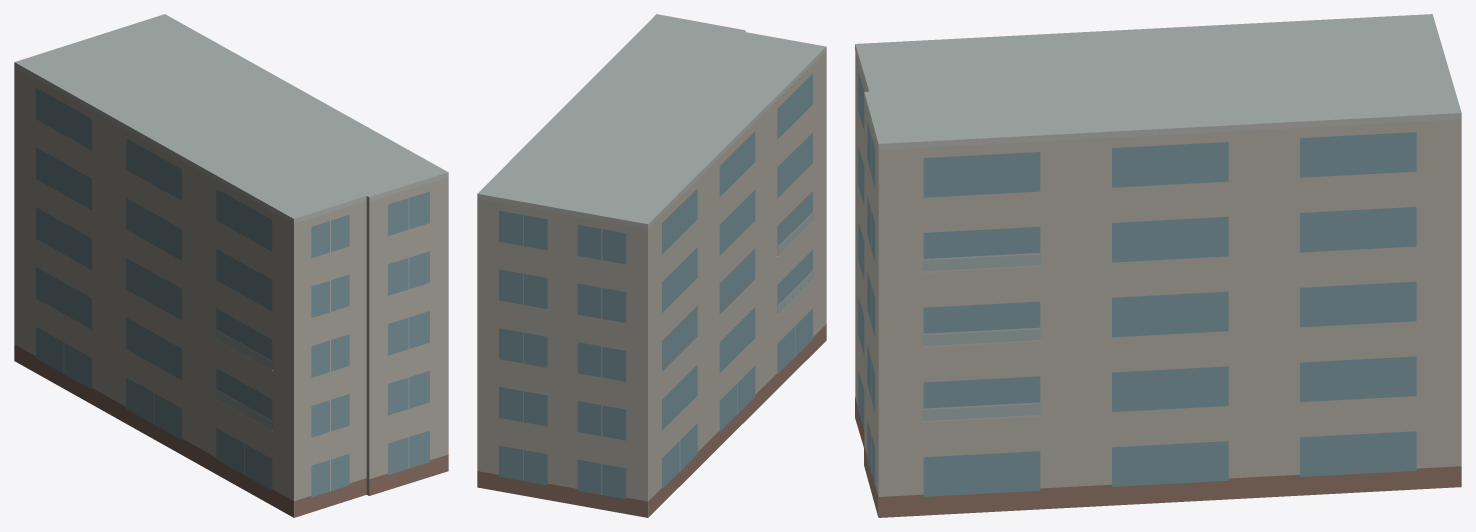
File: survey-upis-32760188.glb
3 renders of one model, left to right at view 1: azimuth 30°, elevation 25°; view 2: azimuth 150°, elevation 25°; view 3: azimuth 270°, elevation 25°, orthographic. The views are drawn at different scales.
Visible parts, largest first — view 1: survey-upis-32760188.tmp; view 2: survey-upis-32760188.tmp; view 3: survey-upis-32760188.tmp.
Boxes of the visible parts, left/top/right/bottom form: survey-upis-32760188.tmp: left=14, top=14, right=448, bottom=517; survey-upis-32760188.tmp: left=477, top=14, right=826, bottom=517; survey-upis-32760188.tmp: left=855, top=14, right=1461, bottom=517.
Bounding box in the file's own units: 11.37 × 15.25 × 22.43.
